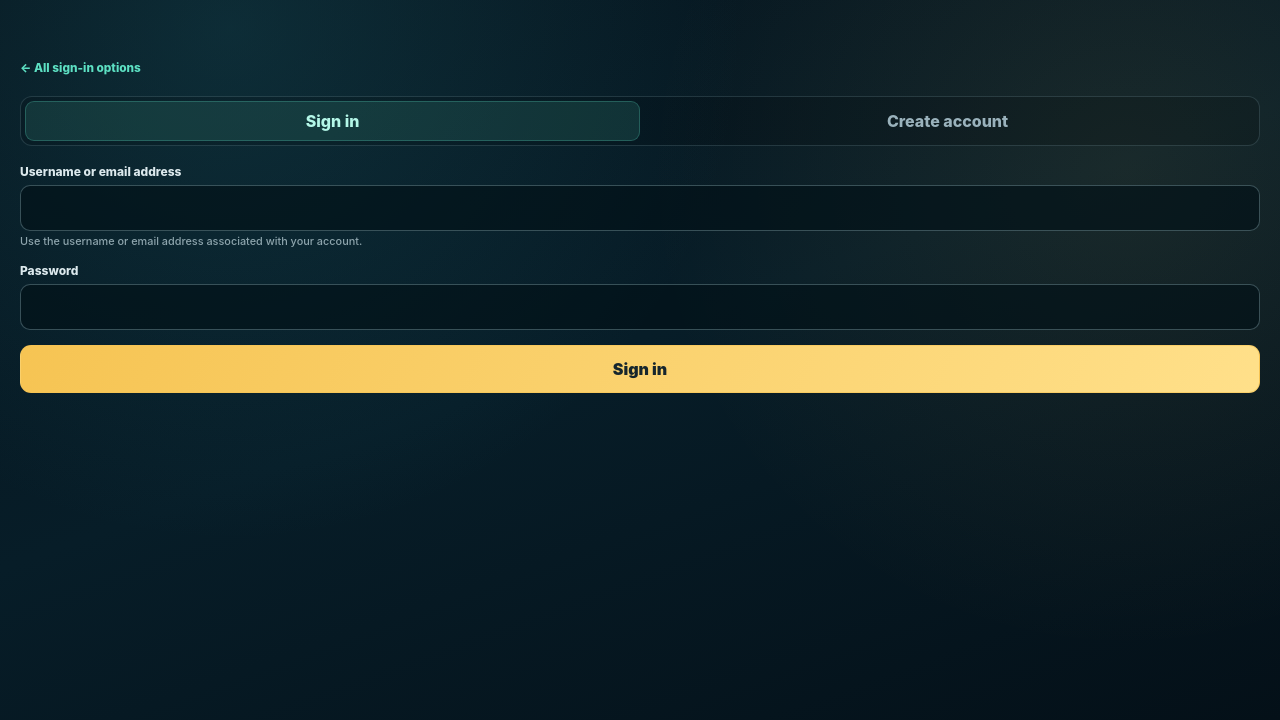
Test: ManualAuthForm › can switch back to sign-in after opening account creation
Click the tab "Create account".
click(948, 121)  # box x1=640 y1=101 x2=1255 y2=141
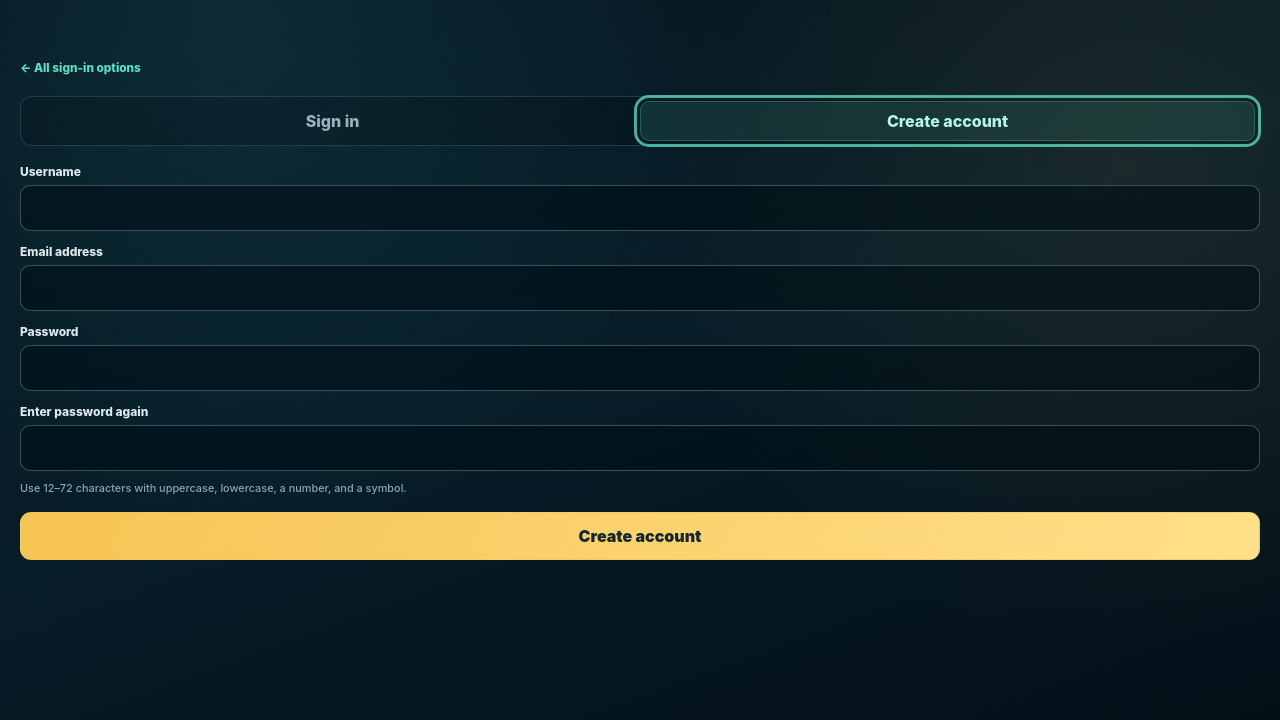
Click the tab "Sign in".
click(332, 121)  # box x1=25 y1=101 x2=640 y2=141
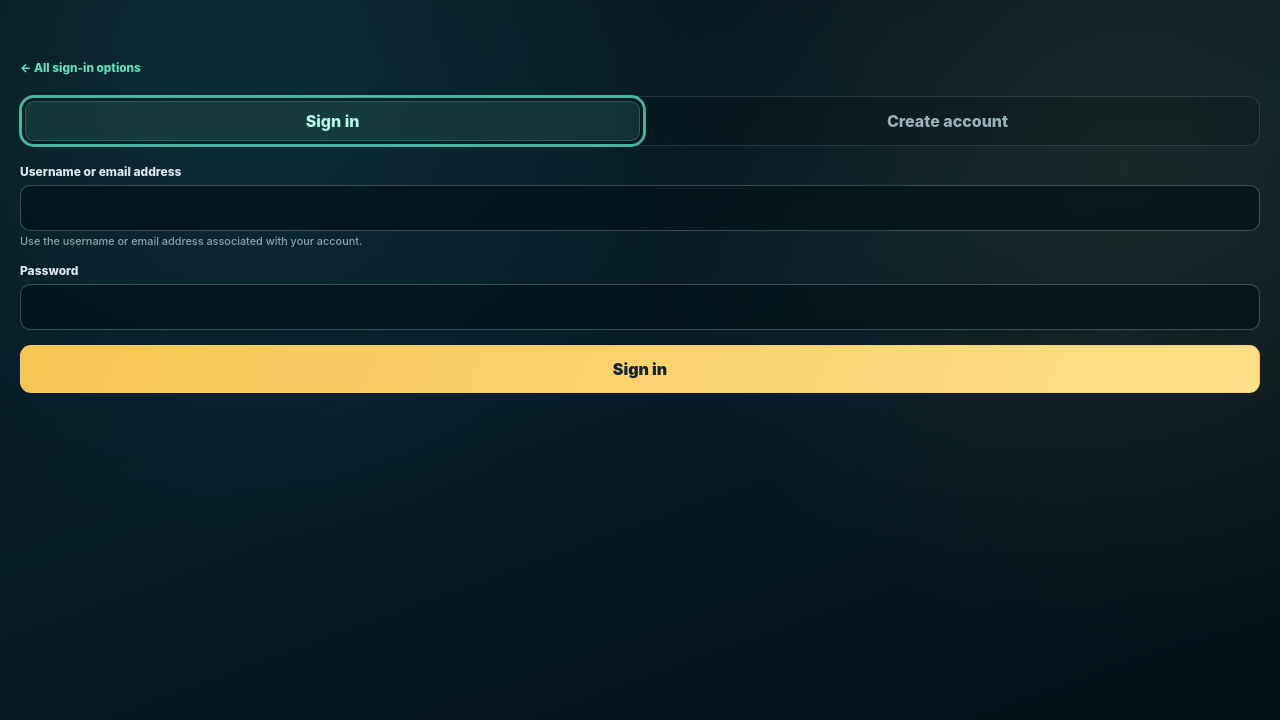
expect the field labelled "Username or email address" is shown: met, box x1=20 y1=185 x2=1260 y2=231
expect the label labelled "Enter password again" is gone: met
